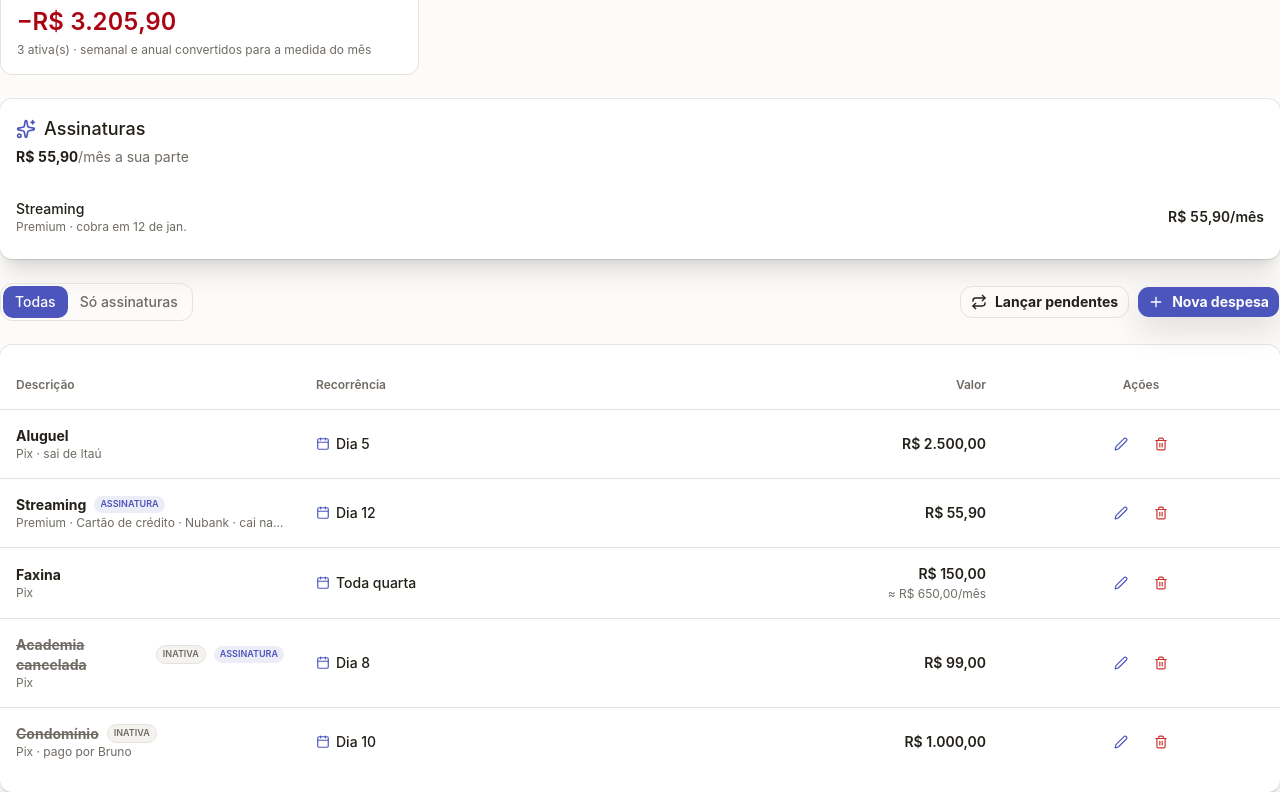
Test case: Recorrência — como dividir › percentuais que não somam 100 travam o salvar e dizem quanto falta
(page scrolled)
Click the button named "editar recorrência condomínio": (1121, 742) [1105,726,1137,758]
(page scrolled)
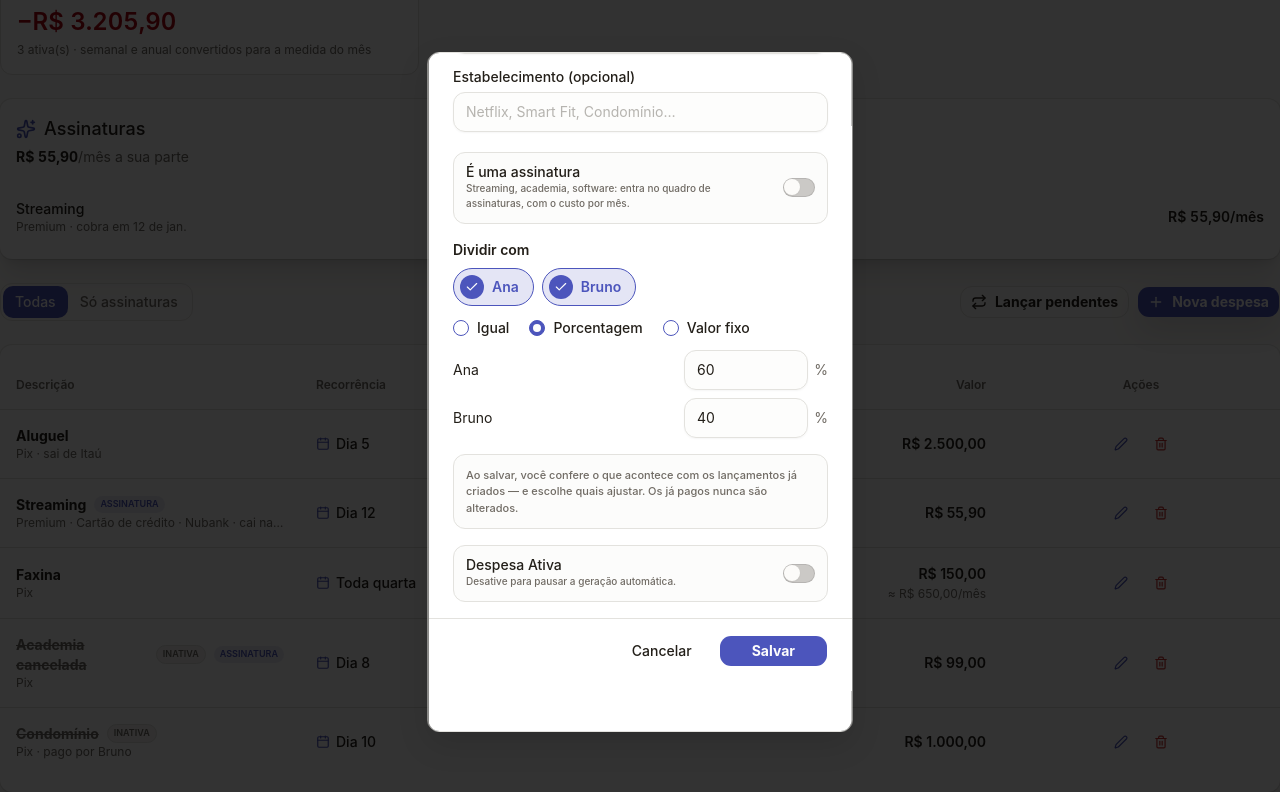
Replace the text in the field named "Percentual de Bruno" with "30": (746, 418) [684,398,808,438]
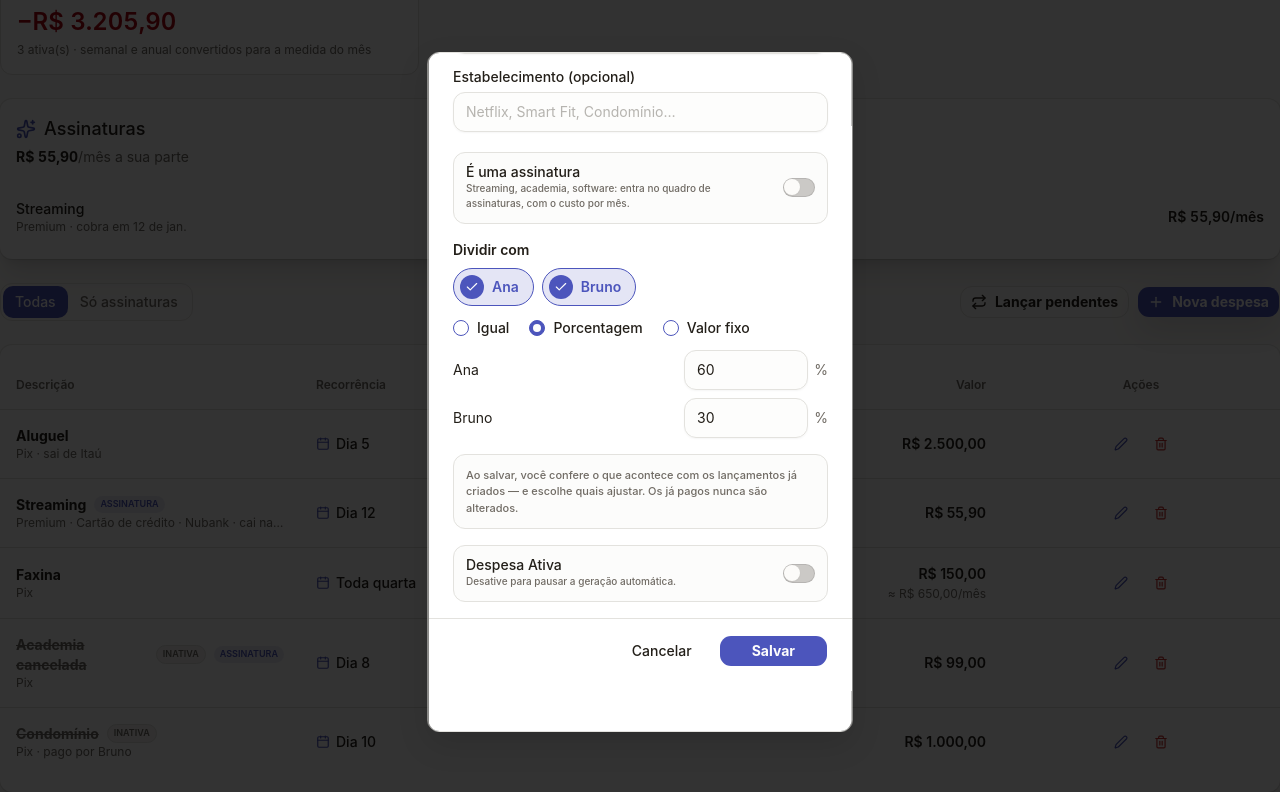
Click the button "Salvar": (773, 651) [718,635,828,667]
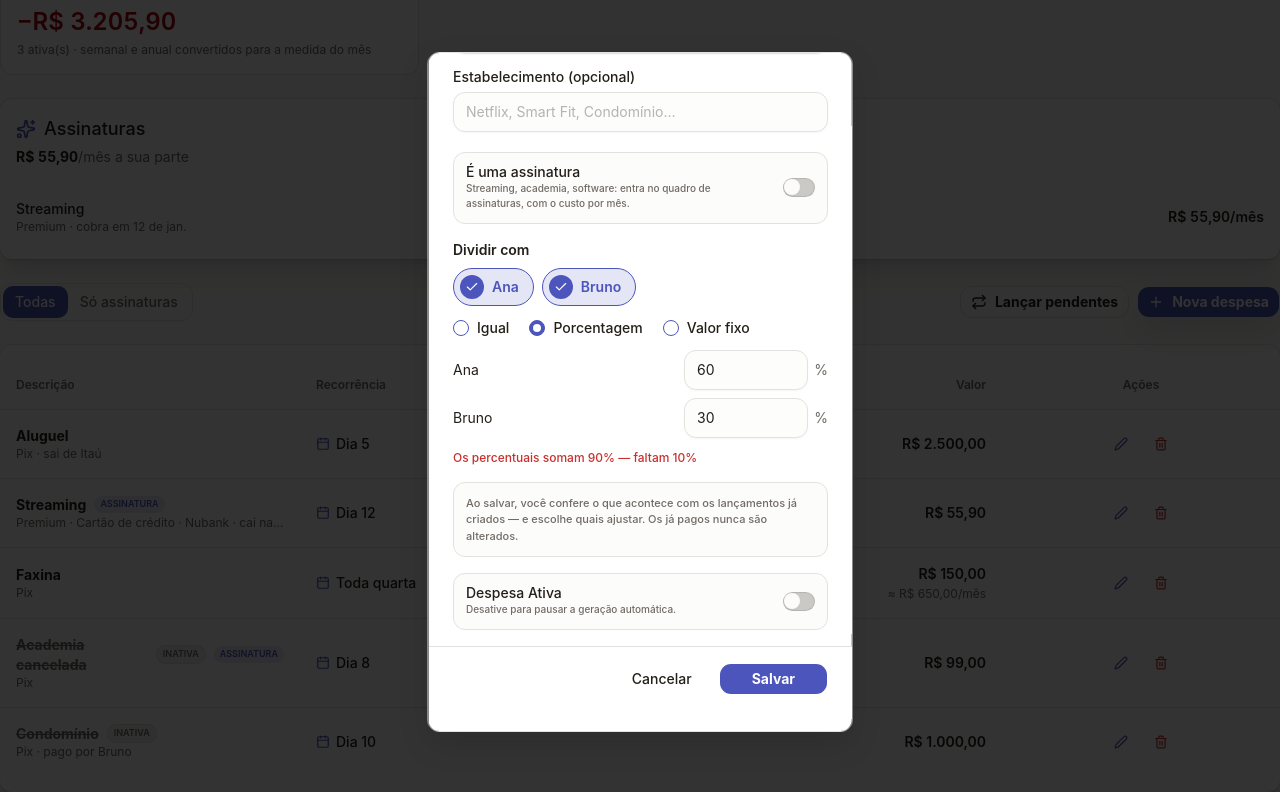
Expected: the text "Os percentuais somam 90% — faltam 10%" is shown, [452,450,697,464]
